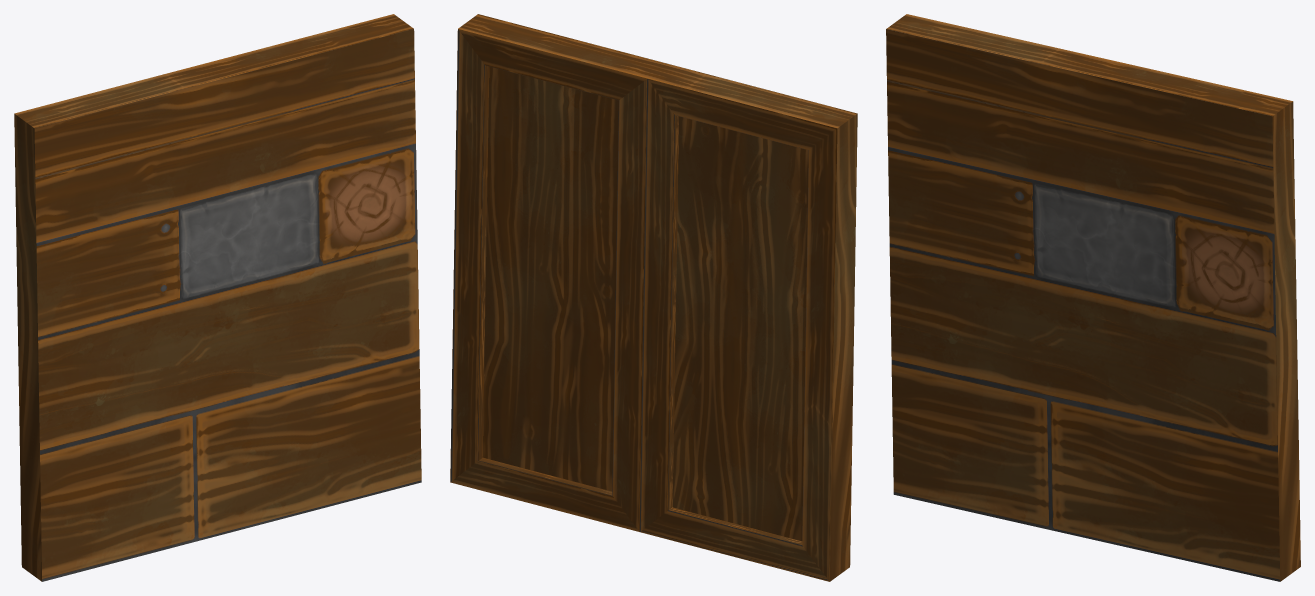
3 renders of one model, left to right at view 1: azimuth 30°, elevation 25°; view 2: azimuth 150°, elevation 25°; view 3: azimuth 330°, elevation 25°, orthographic.
Visible parts, largest first — view 1: Cube.2035; view 2: Cube.2035; view 3: Cube.2035.
Boxes of the visible parts, bbox=[...] form: Cube.2035: bbox=[14, 14, 421, 581]; Cube.2035: bbox=[450, 14, 857, 581]; Cube.2035: bbox=[886, 14, 1300, 581].
Size of the model in its own units: 243 by 278 by 22.1.
Materials: 1 (1 with a texture image).
